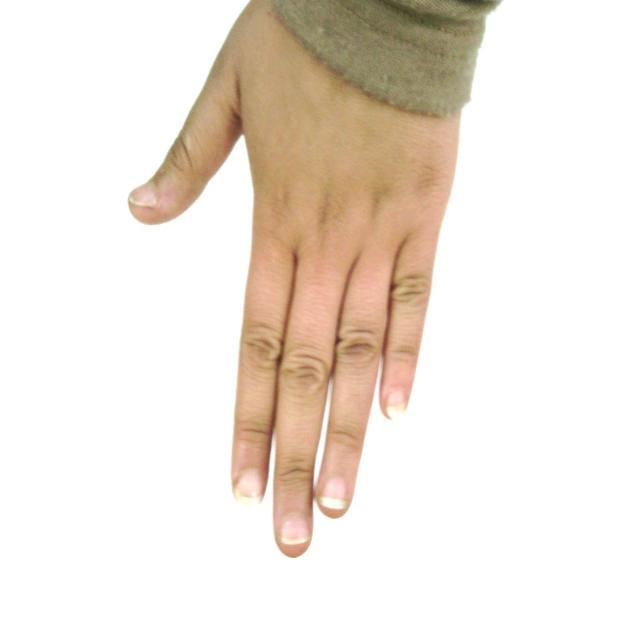Fingernail: (237, 471, 263, 505), (281, 515, 309, 543), (320, 477, 346, 507), (130, 185, 157, 207), (387, 389, 405, 417)
